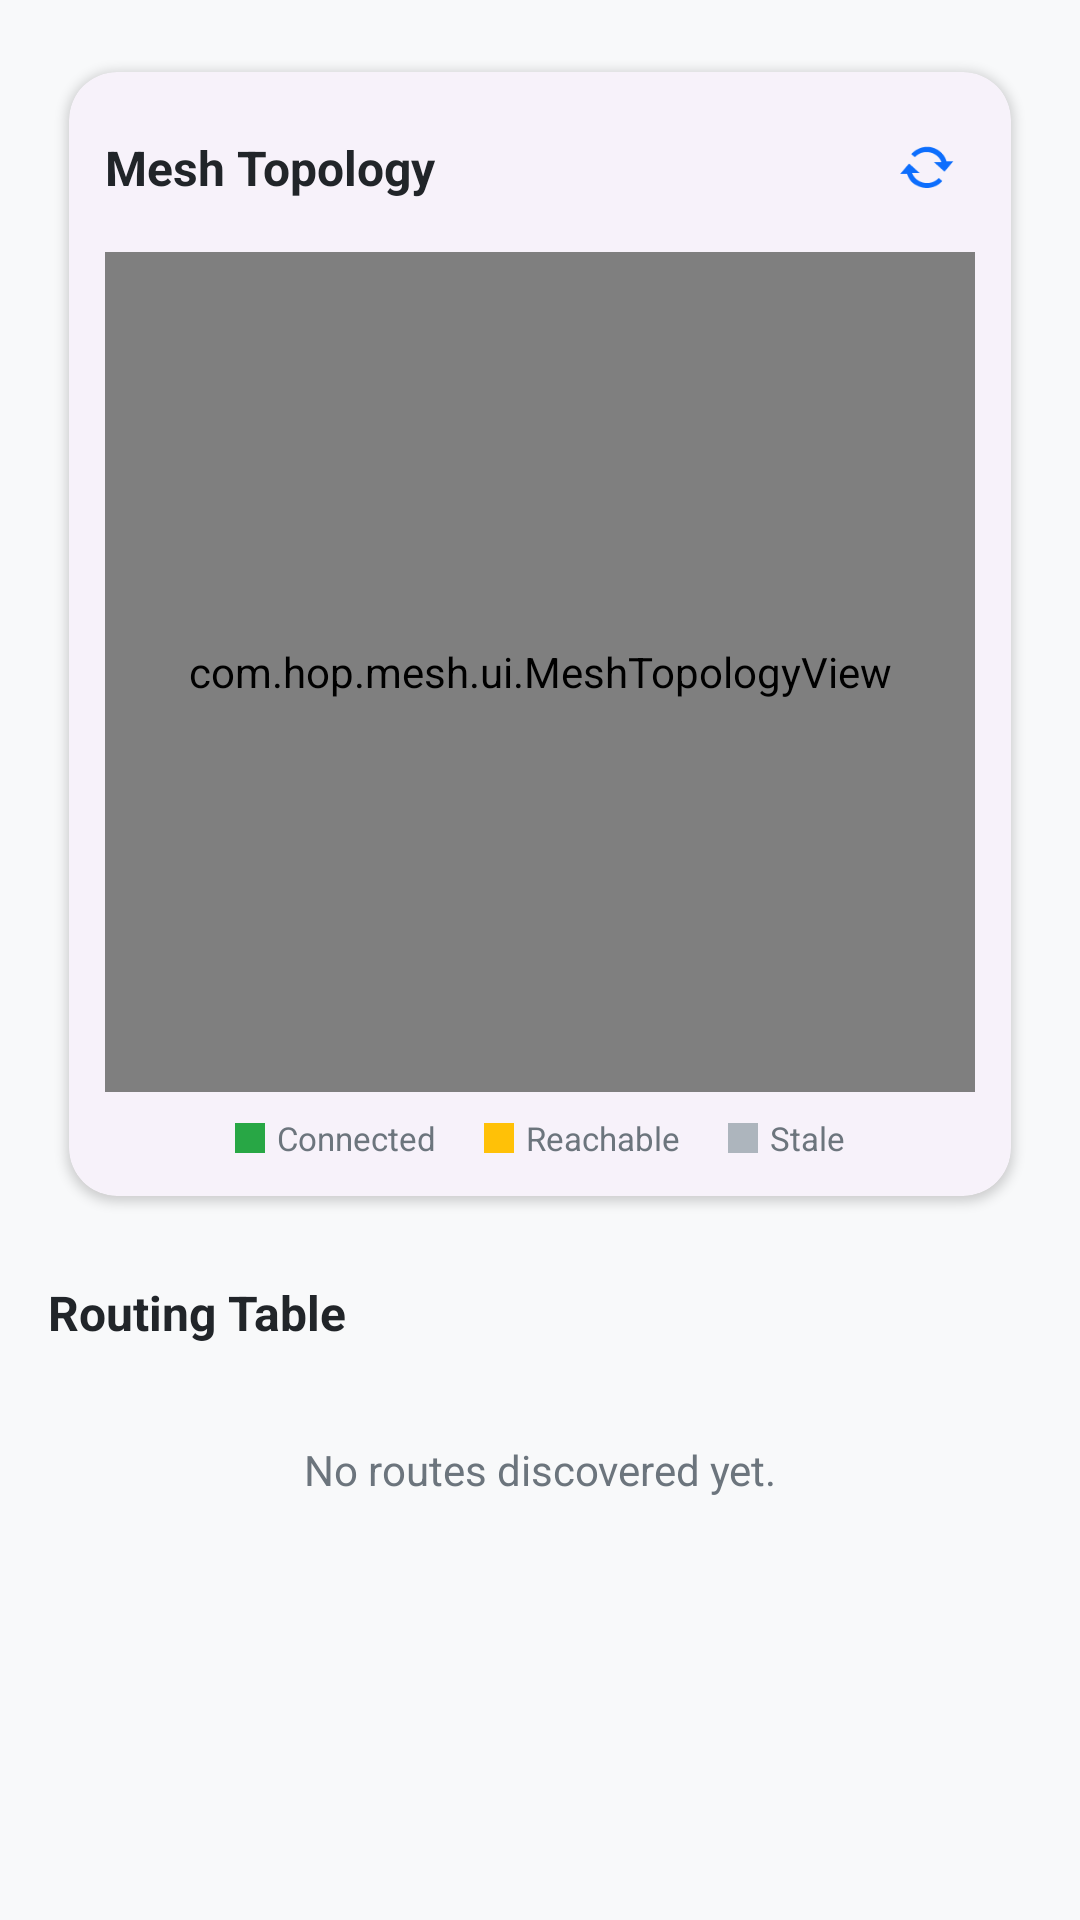

Named icons in this screenshot (1080px x 1920px) and their bounding boxes, (x1, y1, x2, y2):
Refresh: (900, 146, 953, 188)
